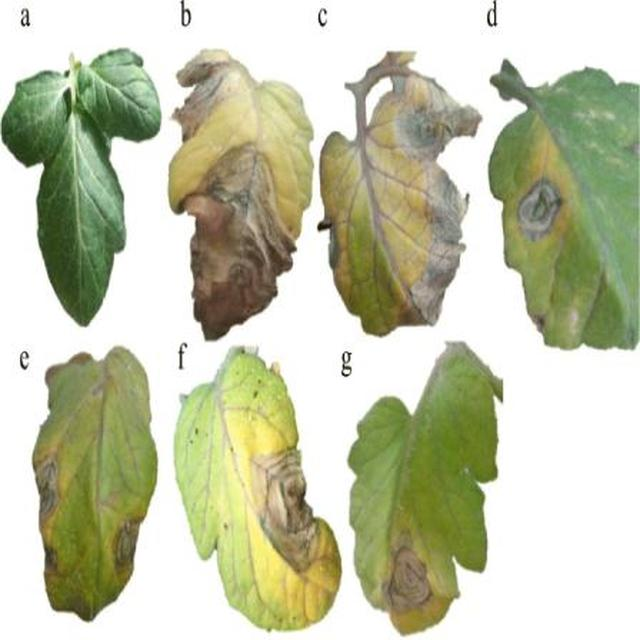Early Blight Leaf: (136, 278, 640, 640)
